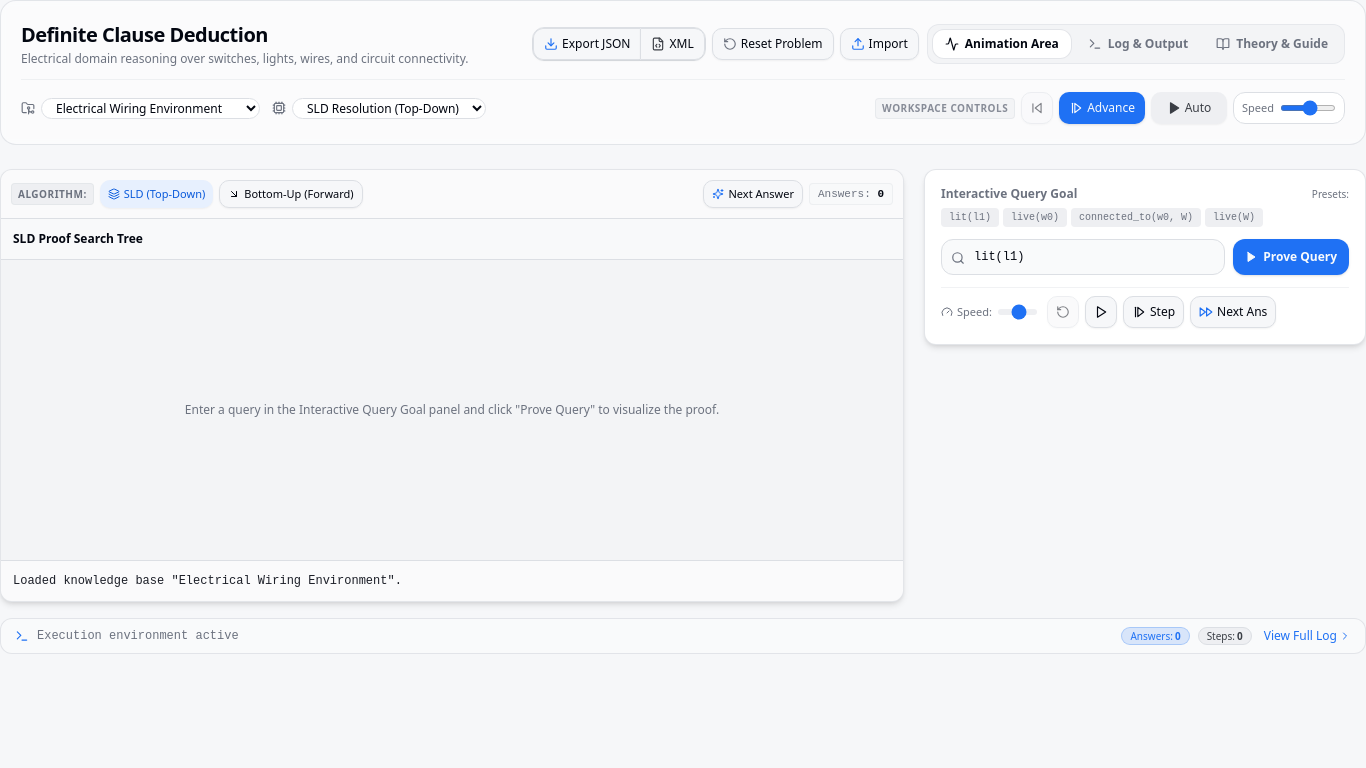
Test: AI Playground Comprehensive Verification Suite › 5. DeductionTool mounts, allows querying, and executes SLD proof
Expected: the heading "Definite Clause Deduction" is shown, [21,21,268,48]
Expected: the text "SLD Proof Search Tree" is shown, [13,231,143,247]
Click the button "Prove Query" at x=1291, y=257, box [1233,239,1349,275]
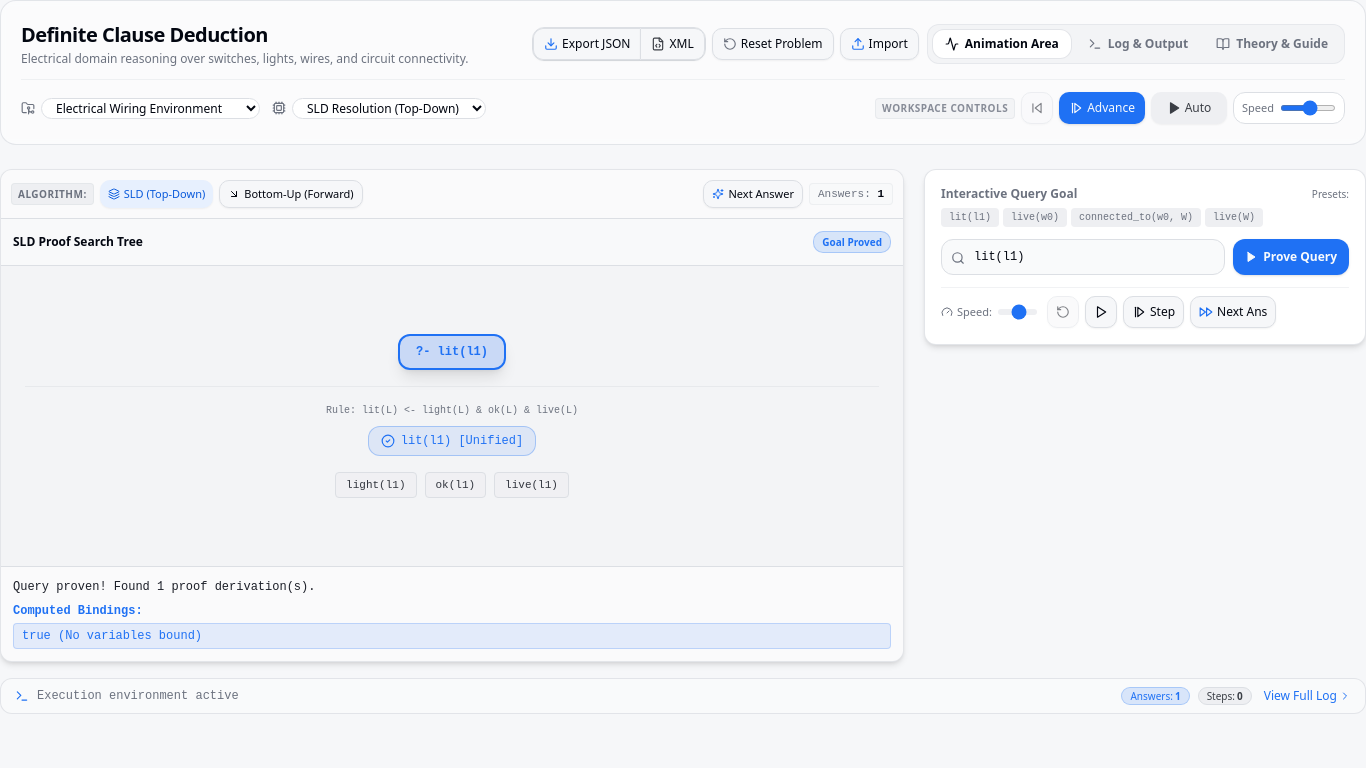
Expected: the text "Query proven! Found 1 proof derivation(s)." is shown, [13,580,316,594]
